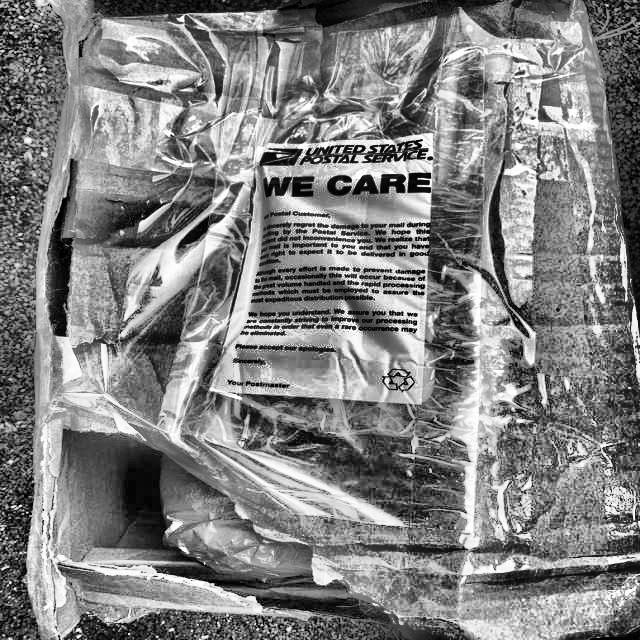box: (33, 7, 640, 640)
hole: (47, 405, 357, 626)
